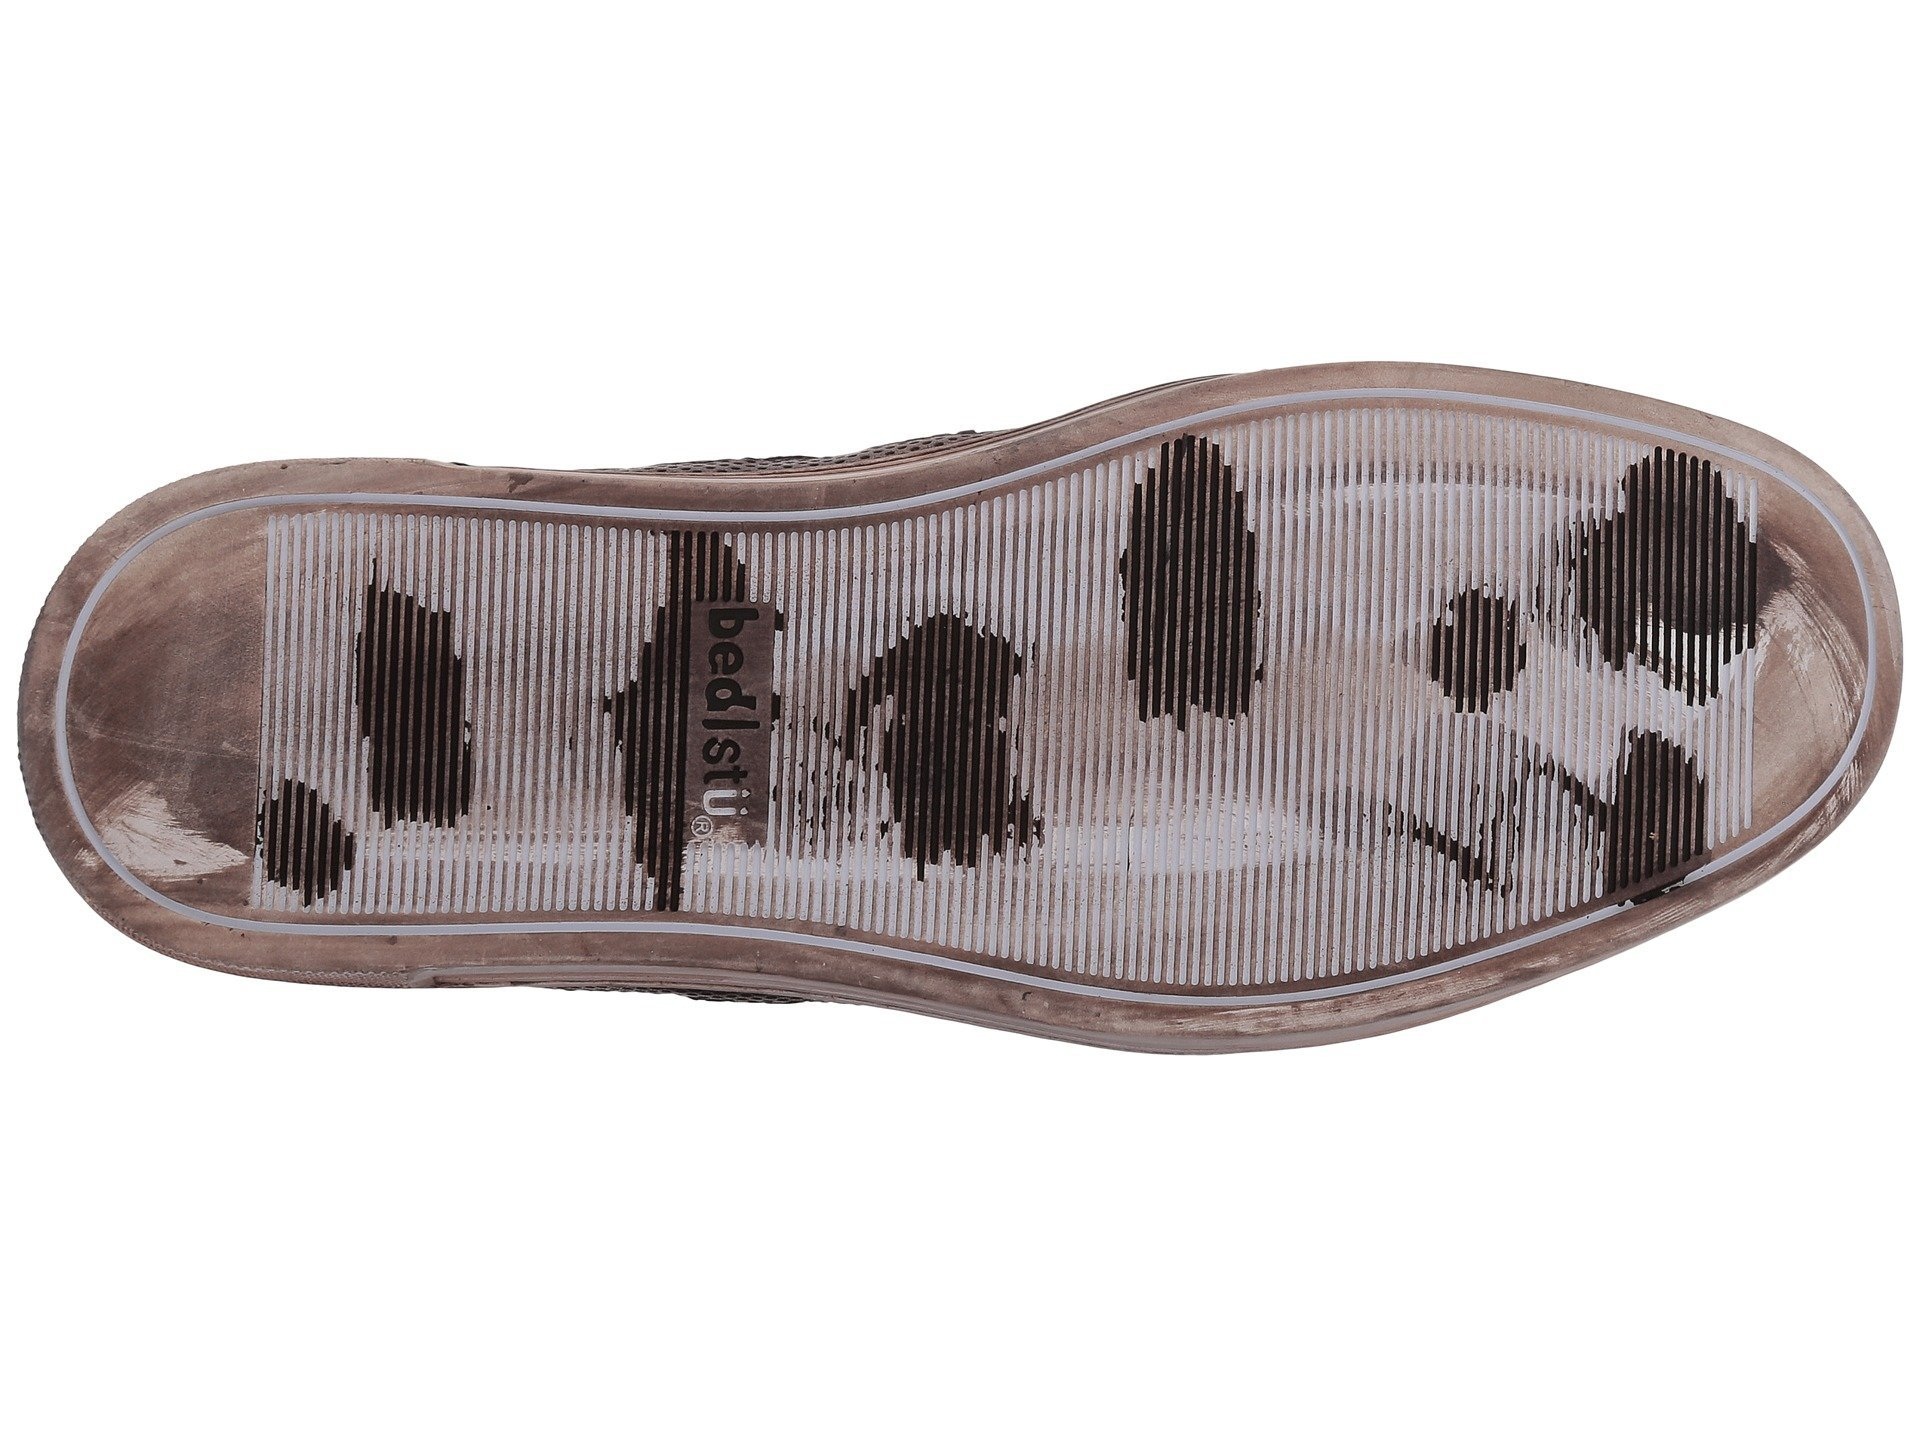line: (481, 516, 915, 941), (1013, 542, 1454, 924)
quad: (481, 516, 915, 941)
text: (481, 516, 915, 941)
